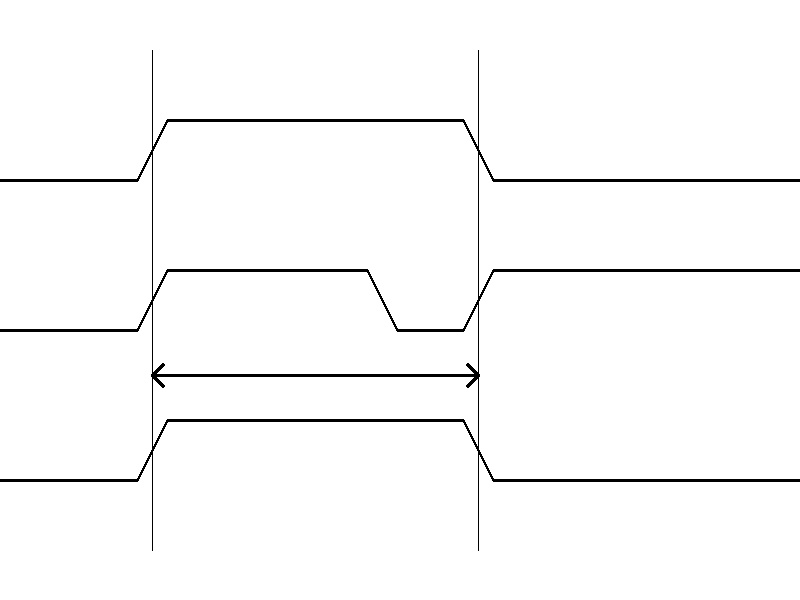double_arrow: (152, 360, 478, 390)
